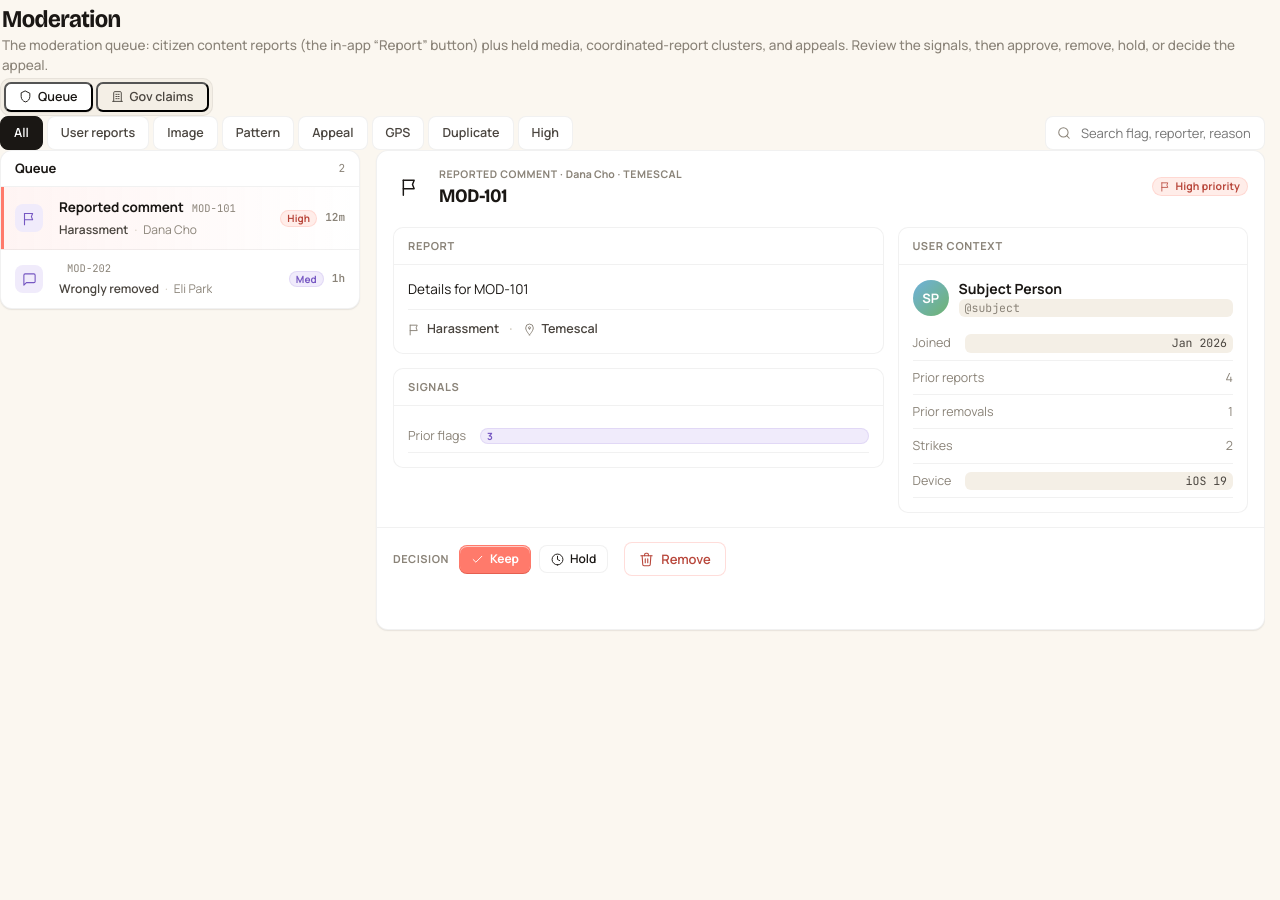
ModerationPage selection after a decision › still confirms Keep when the queue drops the item before the detail refetch settles
This screenshot has width=1280, height=900.
Expected: the heading "MOD-101" is shown, [439,184,507,207]
Click the button "Keep" at (495, 559), box [459,545,531,573]
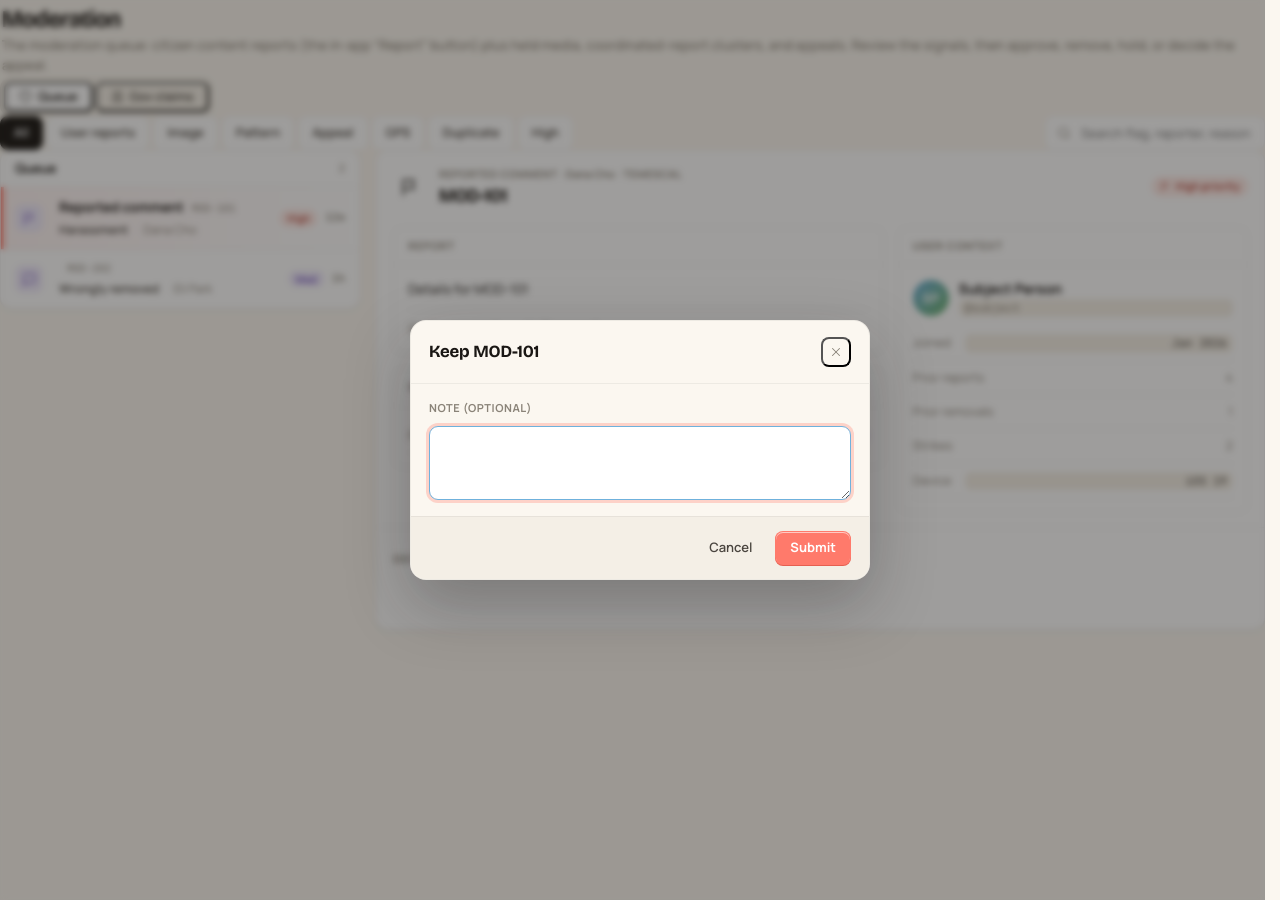
Click the button "Submit" at (813, 548), box [775,531,851,565]
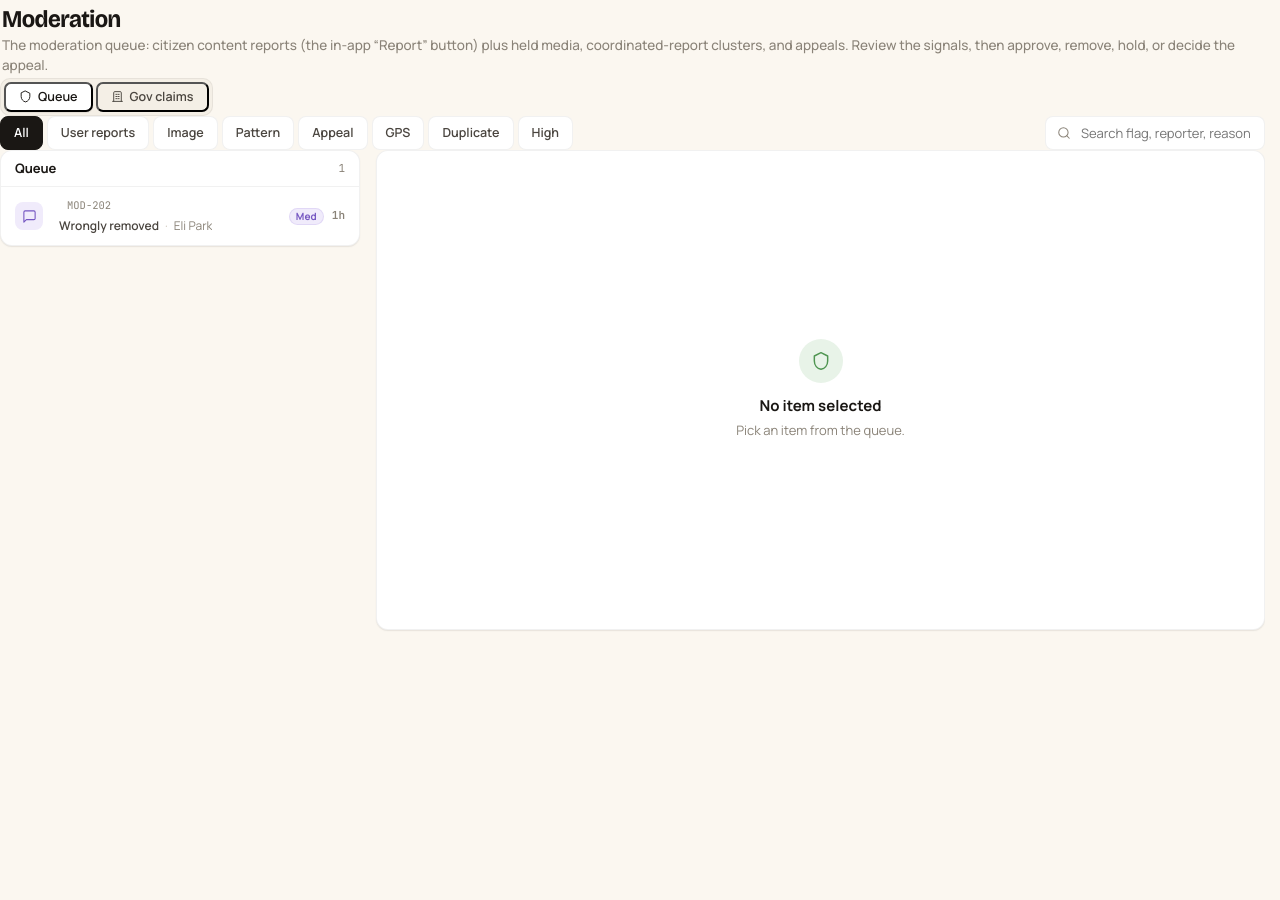
Now the text "No item selected" is shown, box [760,395,882,417]
